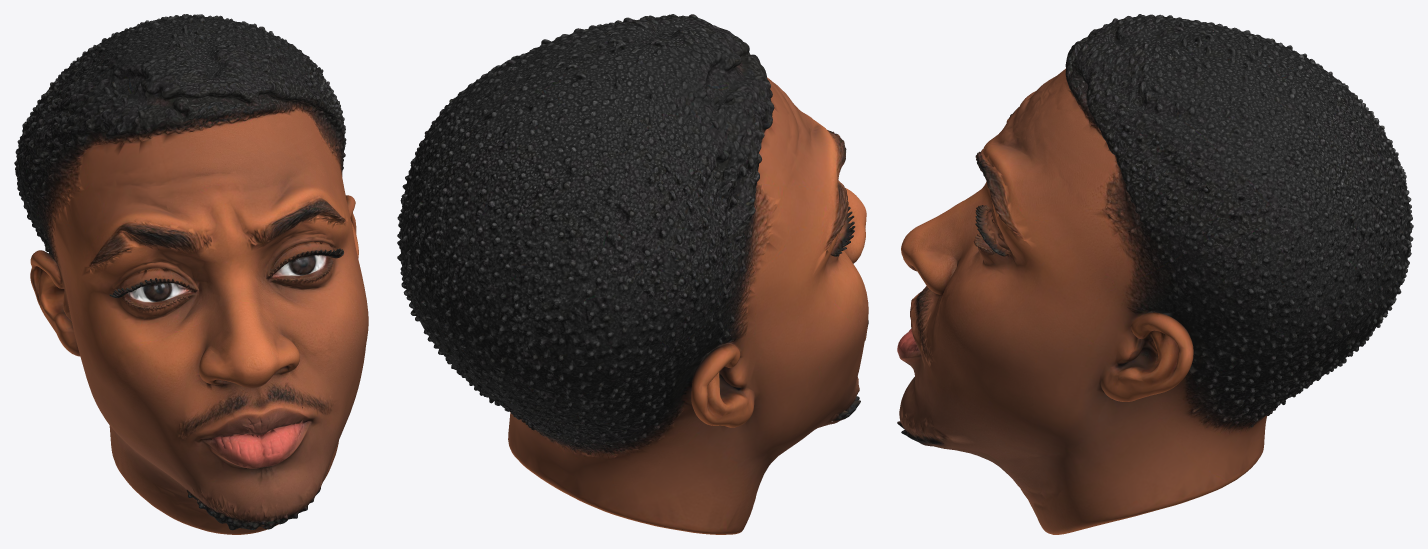
File: realistic-head-mid.glb
3 renders of one model, left to right at view 1: azimuth 30°, elevation 25°; view 2: azimuth 150°, elevation 25°; view 3: azimuth 270°, elevation 25°, orthographic. The views are drawn at different scales.
Visible parts, largest first — view 1: tripo_node_a264185b-5e4a-42fb-8749-524670f635f5; view 2: tripo_node_a264185b-5e4a-42fb-8749-524670f635f5; view 3: tripo_node_a264185b-5e4a-42fb-8749-524670f635f5.
Boxes of the visible parts, x1=… form: tripo_node_a264185b-5e4a-42fb-8749-524670f635f5: x1=14, y1=14, x2=368, y2=534; tripo_node_a264185b-5e4a-42fb-8749-524670f635f5: x1=397, y1=14, x2=868, y2=534; tripo_node_a264185b-5e4a-42fb-8749-524670f635f5: x1=897, y1=14, x2=1413, y2=534.
Size of the model in its own units: 0.6523 by 0.9375 by 0.8898.
Materials: 1 (1 with a texture image).
